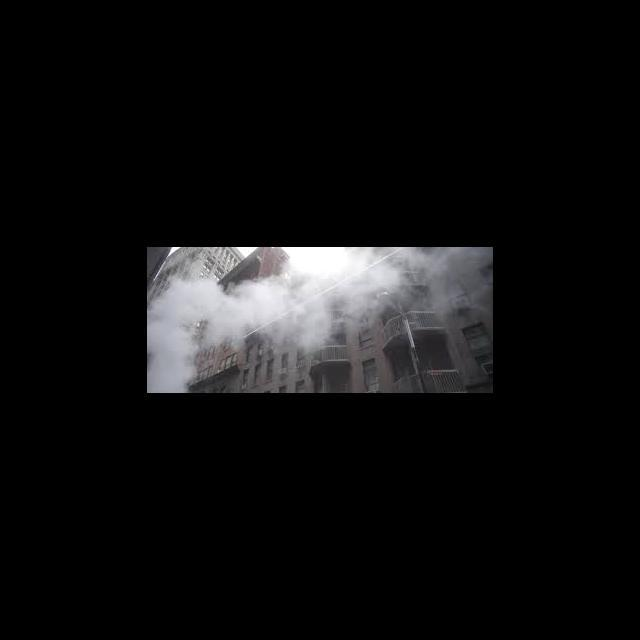Smoke: (147, 257, 399, 393)
